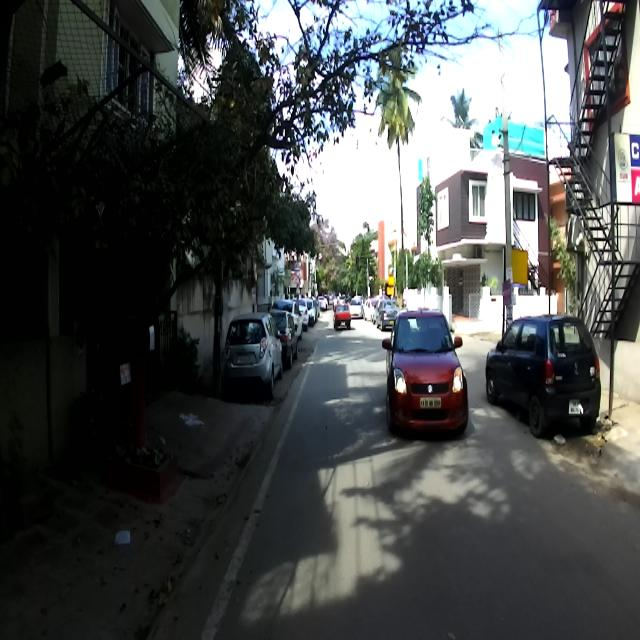car ahead at: (484, 305, 606, 440), (378, 303, 473, 442), (218, 308, 285, 399), (334, 298, 357, 336)
